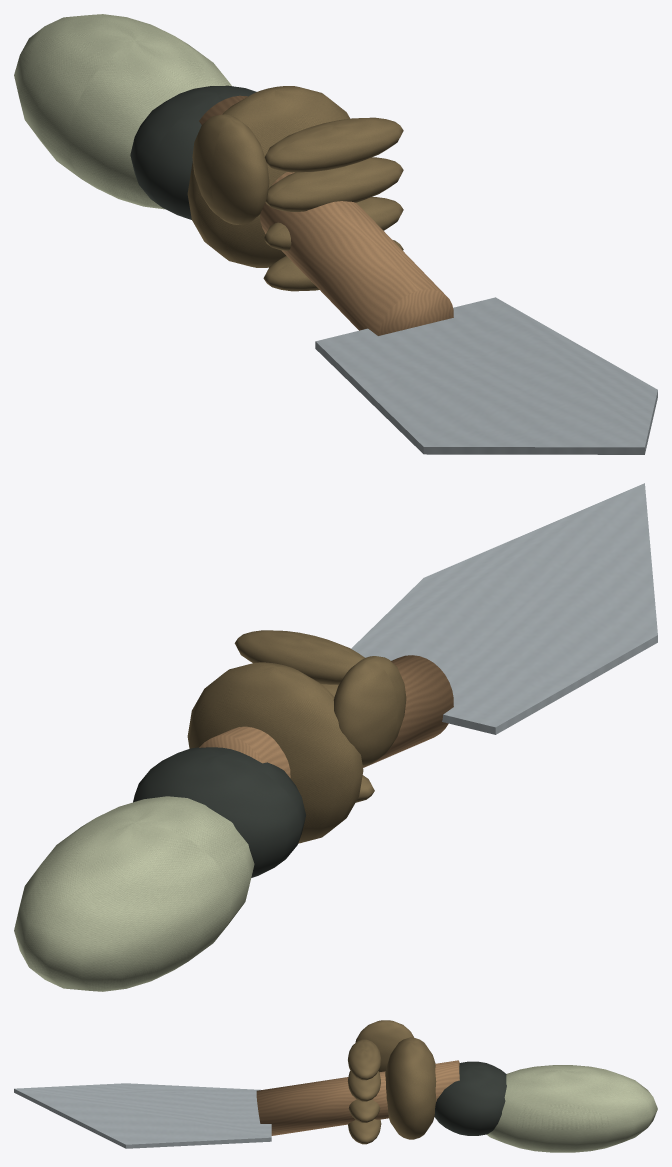
File: trowel.glb
3 views of the same model, one above another, from view 1: azimuth 30°, elevation 25°; view 2: azimuth 150°, elevation 25°; view 3: azimuth 270°, elevation 25° (orthographic). The views are drawn at different scales.
Parts seen in each view (by area): view 1: trowel blade, canvas sleeve, trowel handle, gloved palm, glove cuff, opposing thumb, curled grip finger.003, curled grip finger.002, curled grip finger.001, curled grip finger; view 2: trowel blade, canvas sleeve, gloved palm, glove cuff, trowel handle, opposing thumb, curled grip finger.003; view 3: trowel blade, canvas sleeve, trowel handle, gloved palm, glove cuff, opposing thumb, curled grip finger.003, curled grip finger.002, curled grip finger, curled grip finger.001.
Boxes of the visible parts, <box> form: trowel blade: <box>315,297,657,454</box>; canvas sleeve: <box>14,14,231,209</box>; trowel handle: <box>199,95,453,335</box>; gloved palm: <box>187,86,349,267</box>; glove cuff: <box>130,85,256,219</box>; opposing thumb: <box>192,114,269,224</box>; curled grip finger.003: <box>265,117,403,172</box>; curled grip finger.002: <box>265,157,403,211</box>; curled grip finger.001: <box>263,197,403,250</box>; curled grip finger: <box>263,240,403,291</box>; trowel blade: <box>351,483,657,734</box>; canvas sleeve: <box>14,796,254,991</box>; gloved palm: <box>187,662,363,843</box>; glove cuff: <box>133,747,305,877</box>; trowel handle: <box>199,655,453,777</box>; opposing thumb: <box>333,656,406,766</box>; curled grip finger.003: <box>234,630,364,684</box>; trowel blade: <box>14,1083,271,1148</box>; canvas sleeve: <box>486,1065,657,1152</box>; trowel handle: <box>256,1060,459,1135</box>; gloved palm: <box>385,1037,436,1139</box>; glove cuff: <box>434,1061,506,1135</box>; opposing thumb: <box>355,1020,413,1071</box>; curled grip finger.003: <box>348,1039,381,1080</box>; curled grip finger.002: <box>347,1071,380,1101</box>; curled grip finger: <box>348,1119,381,1144</box>; curled grip finger.001: <box>348,1099,380,1122</box>.
Bounding box in the file's own units: 0.13 × 0.107 × 0.575.
5 materials, 5 textured.
